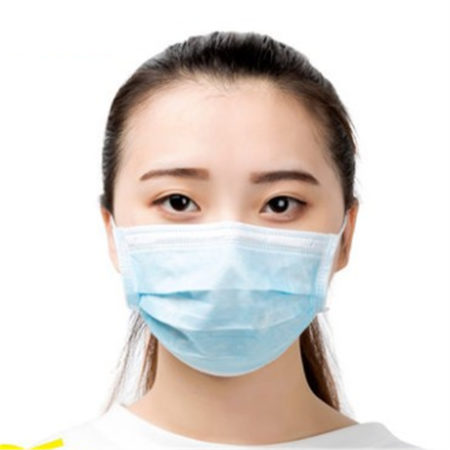surgical: (101, 212, 343, 382)
